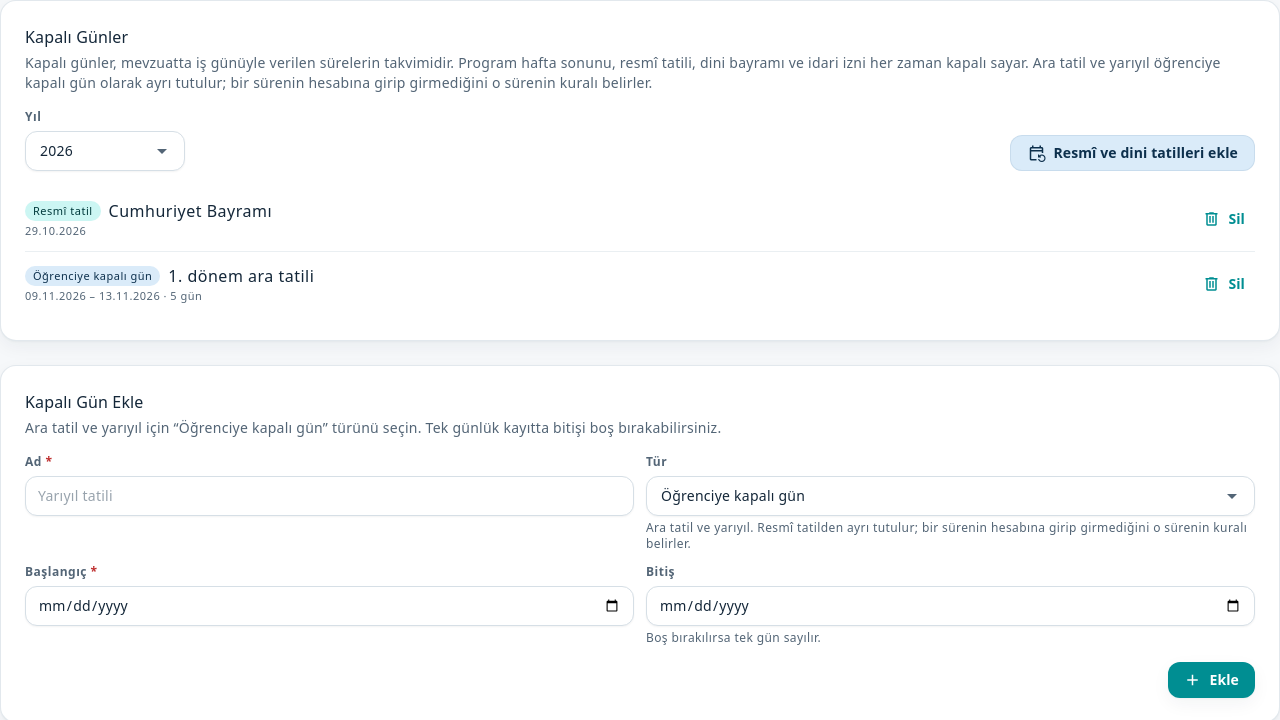
Test: KapaliGunlerPaneli — silme › silme hatası bildirilir
This screenshot has width=1280, height=720.
Check: the text "Cumhuriyet Bayramı" is shown, box [109, 200, 272, 222]
Click the button with aria-label "Cumhuriyet Bayramı kaydını sil". click: [1224, 219]
box: [1192, 201, 1255, 237]
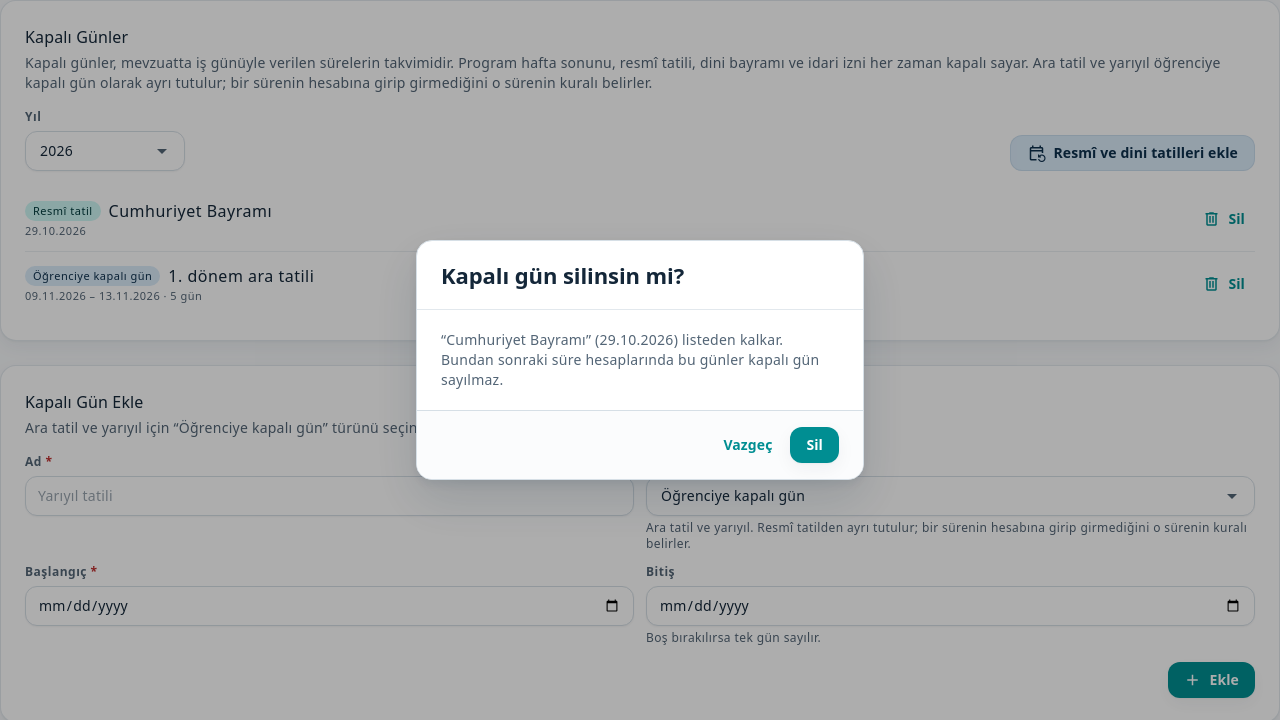
Click the button "Sil". click: [815, 445]
box: [790, 427, 839, 463]
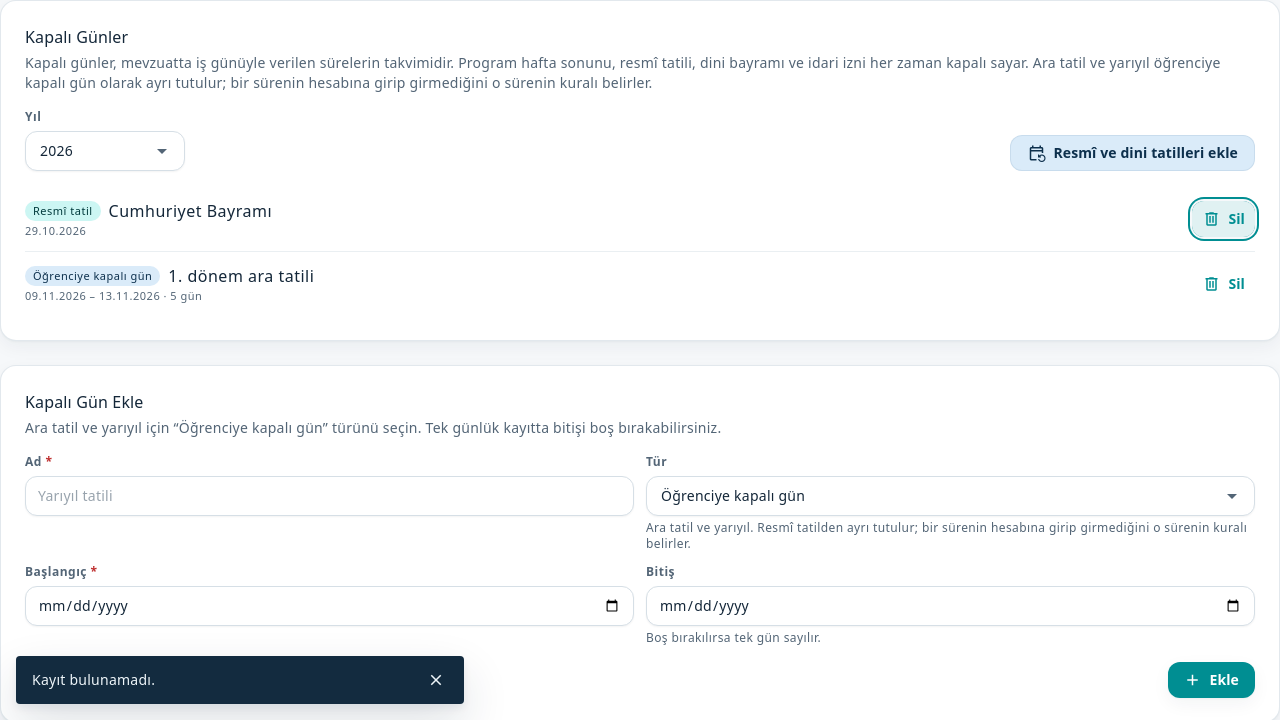
Check: the text "Kayıt bulunamadı." is shown, box [32, 670, 155, 689]
